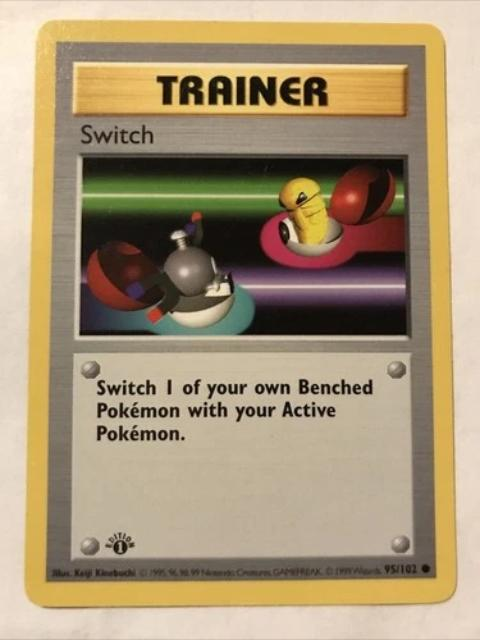Card: (16, 13, 462, 615)
Name: (71, 118, 164, 152)
